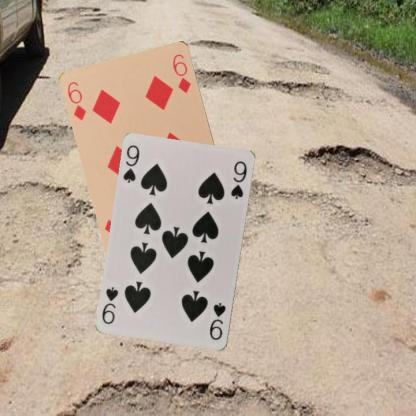6d: (65, 79, 88, 122)
9s: (206, 300, 228, 342), (121, 143, 141, 184)
